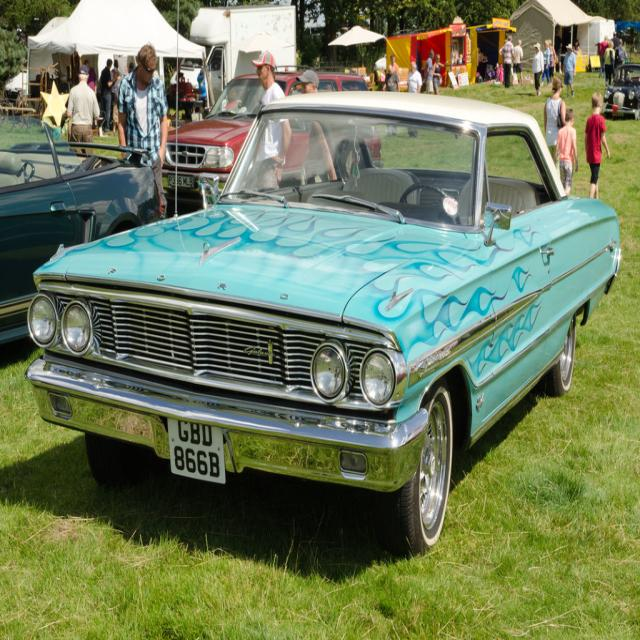car: (27, 82, 597, 558)
